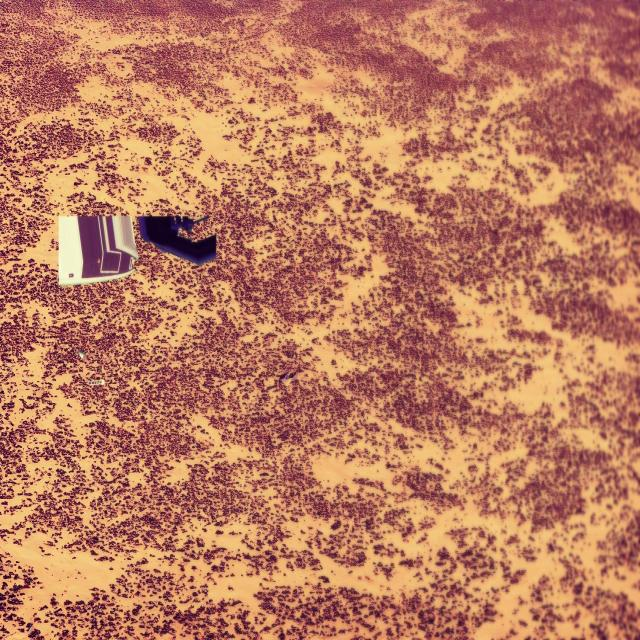airplane: (58, 215, 216, 283)
